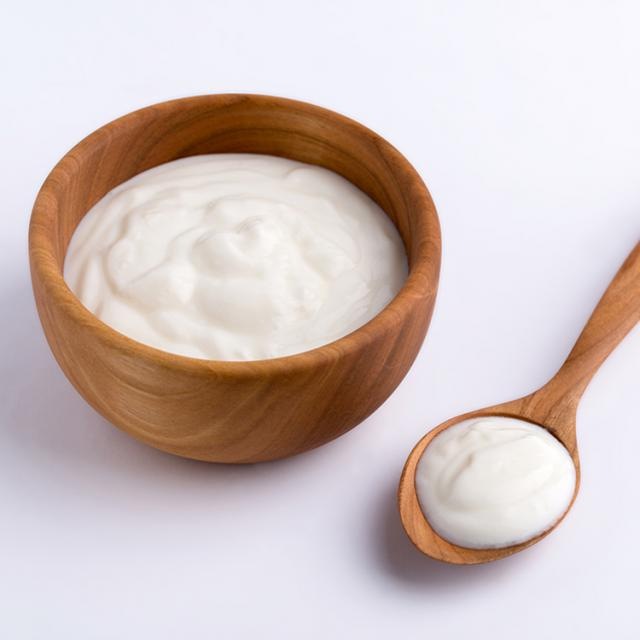yogurt: (59, 148, 415, 368), (414, 414, 578, 553)
